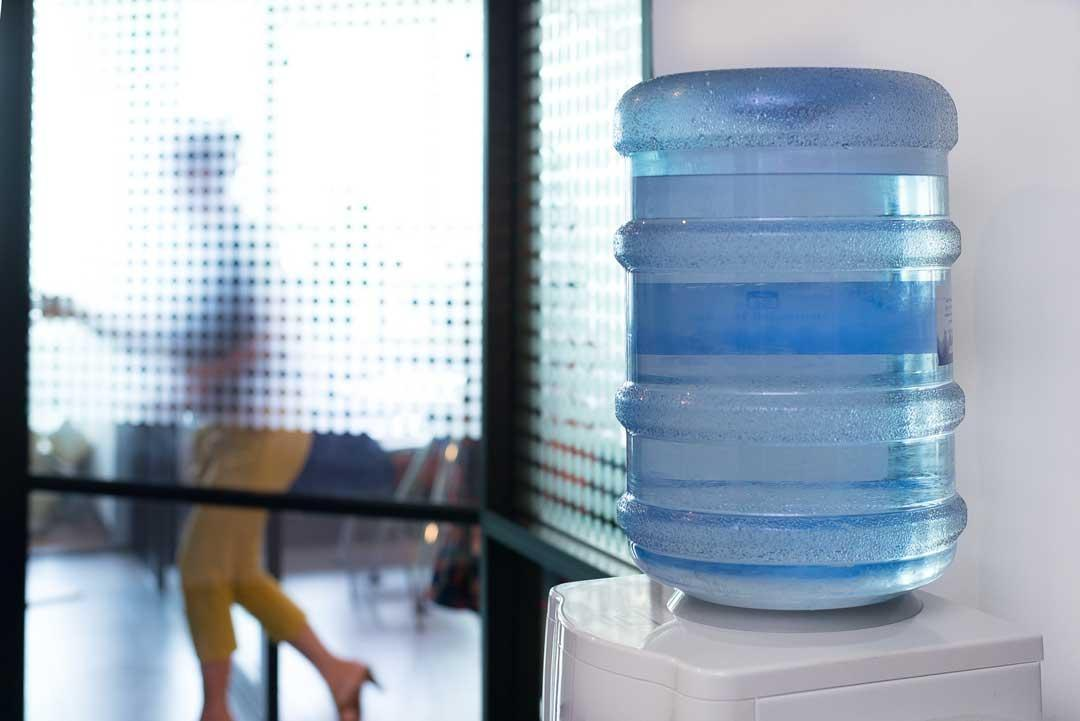Dispenser: (535, 67, 1046, 720)
